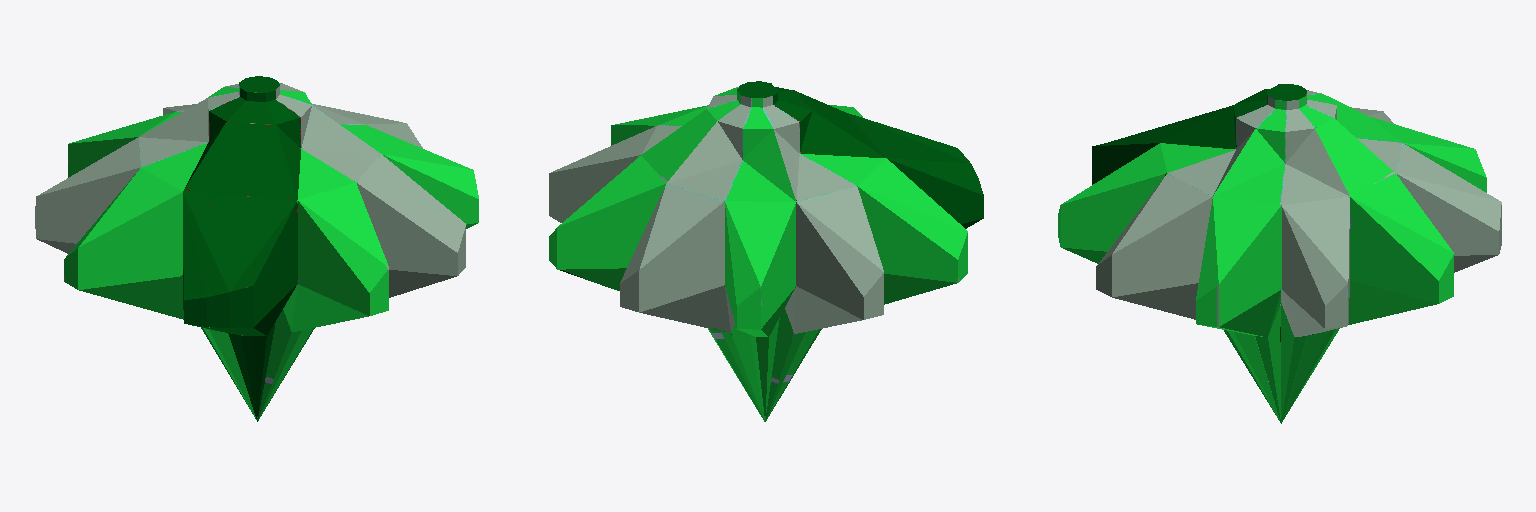
3 renders of one model, left to right at view 1: azimuth 30°, elevation 25°; view 2: azimuth 150°, elevation 25°; view 3: azimuth 270°, elevation 25°, orthographic.
Parts seen in each view (by area): view 1: 円錐; view 2: 円錐; view 3: 円錐.
Part boxes in pixels (x1,y1,x2,y2): 円錐: (35,76,478,421); 円錐: (549,81,983,421); 円錐: (1058,84,1501,423).
Size of the model in its own units: 9.87 by 8.25 by 9.93.
Materials: 1 (1 with a texture image).